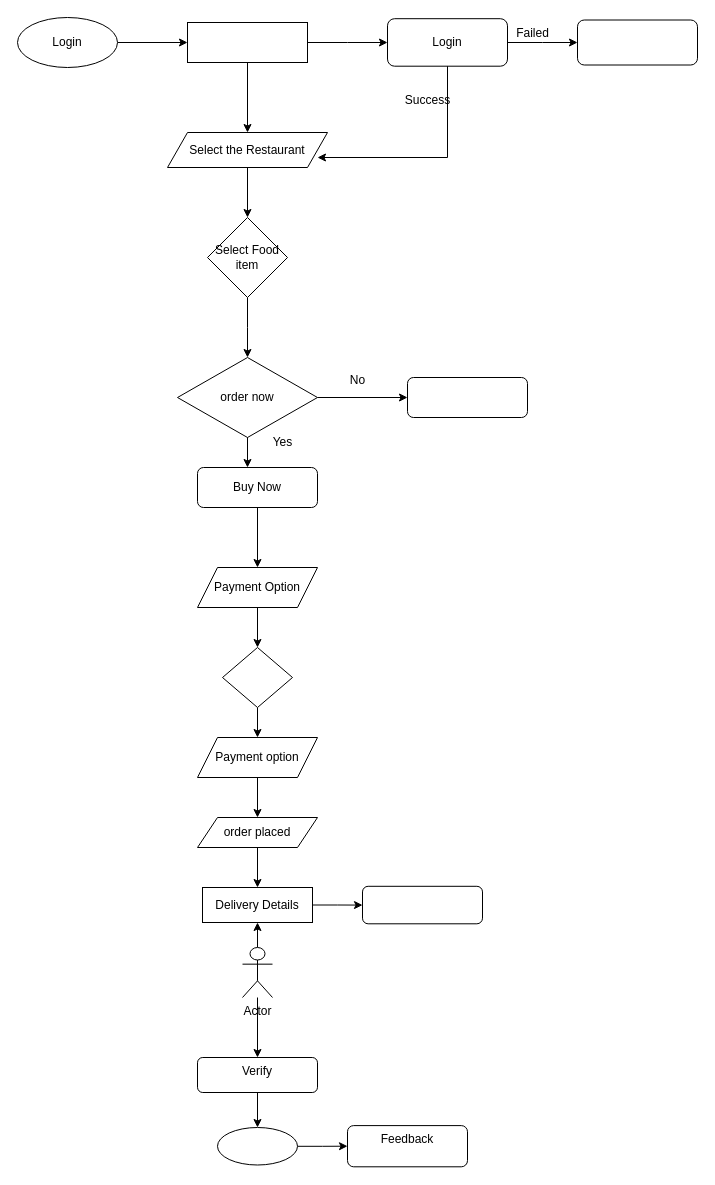
This 715x1185 diagram has some shape labels left out. Each missing label, with the box of its shape:
Add to cart: (406, 376, 528, 418)
Confirm Order: (222, 646, 292, 708)
Delivered: (216, 1126, 298, 1165)
Food Delivery app: (186, 22, 308, 62)
Register: (576, 19, 698, 65)
Track your Order: (362, 885, 482, 924)
